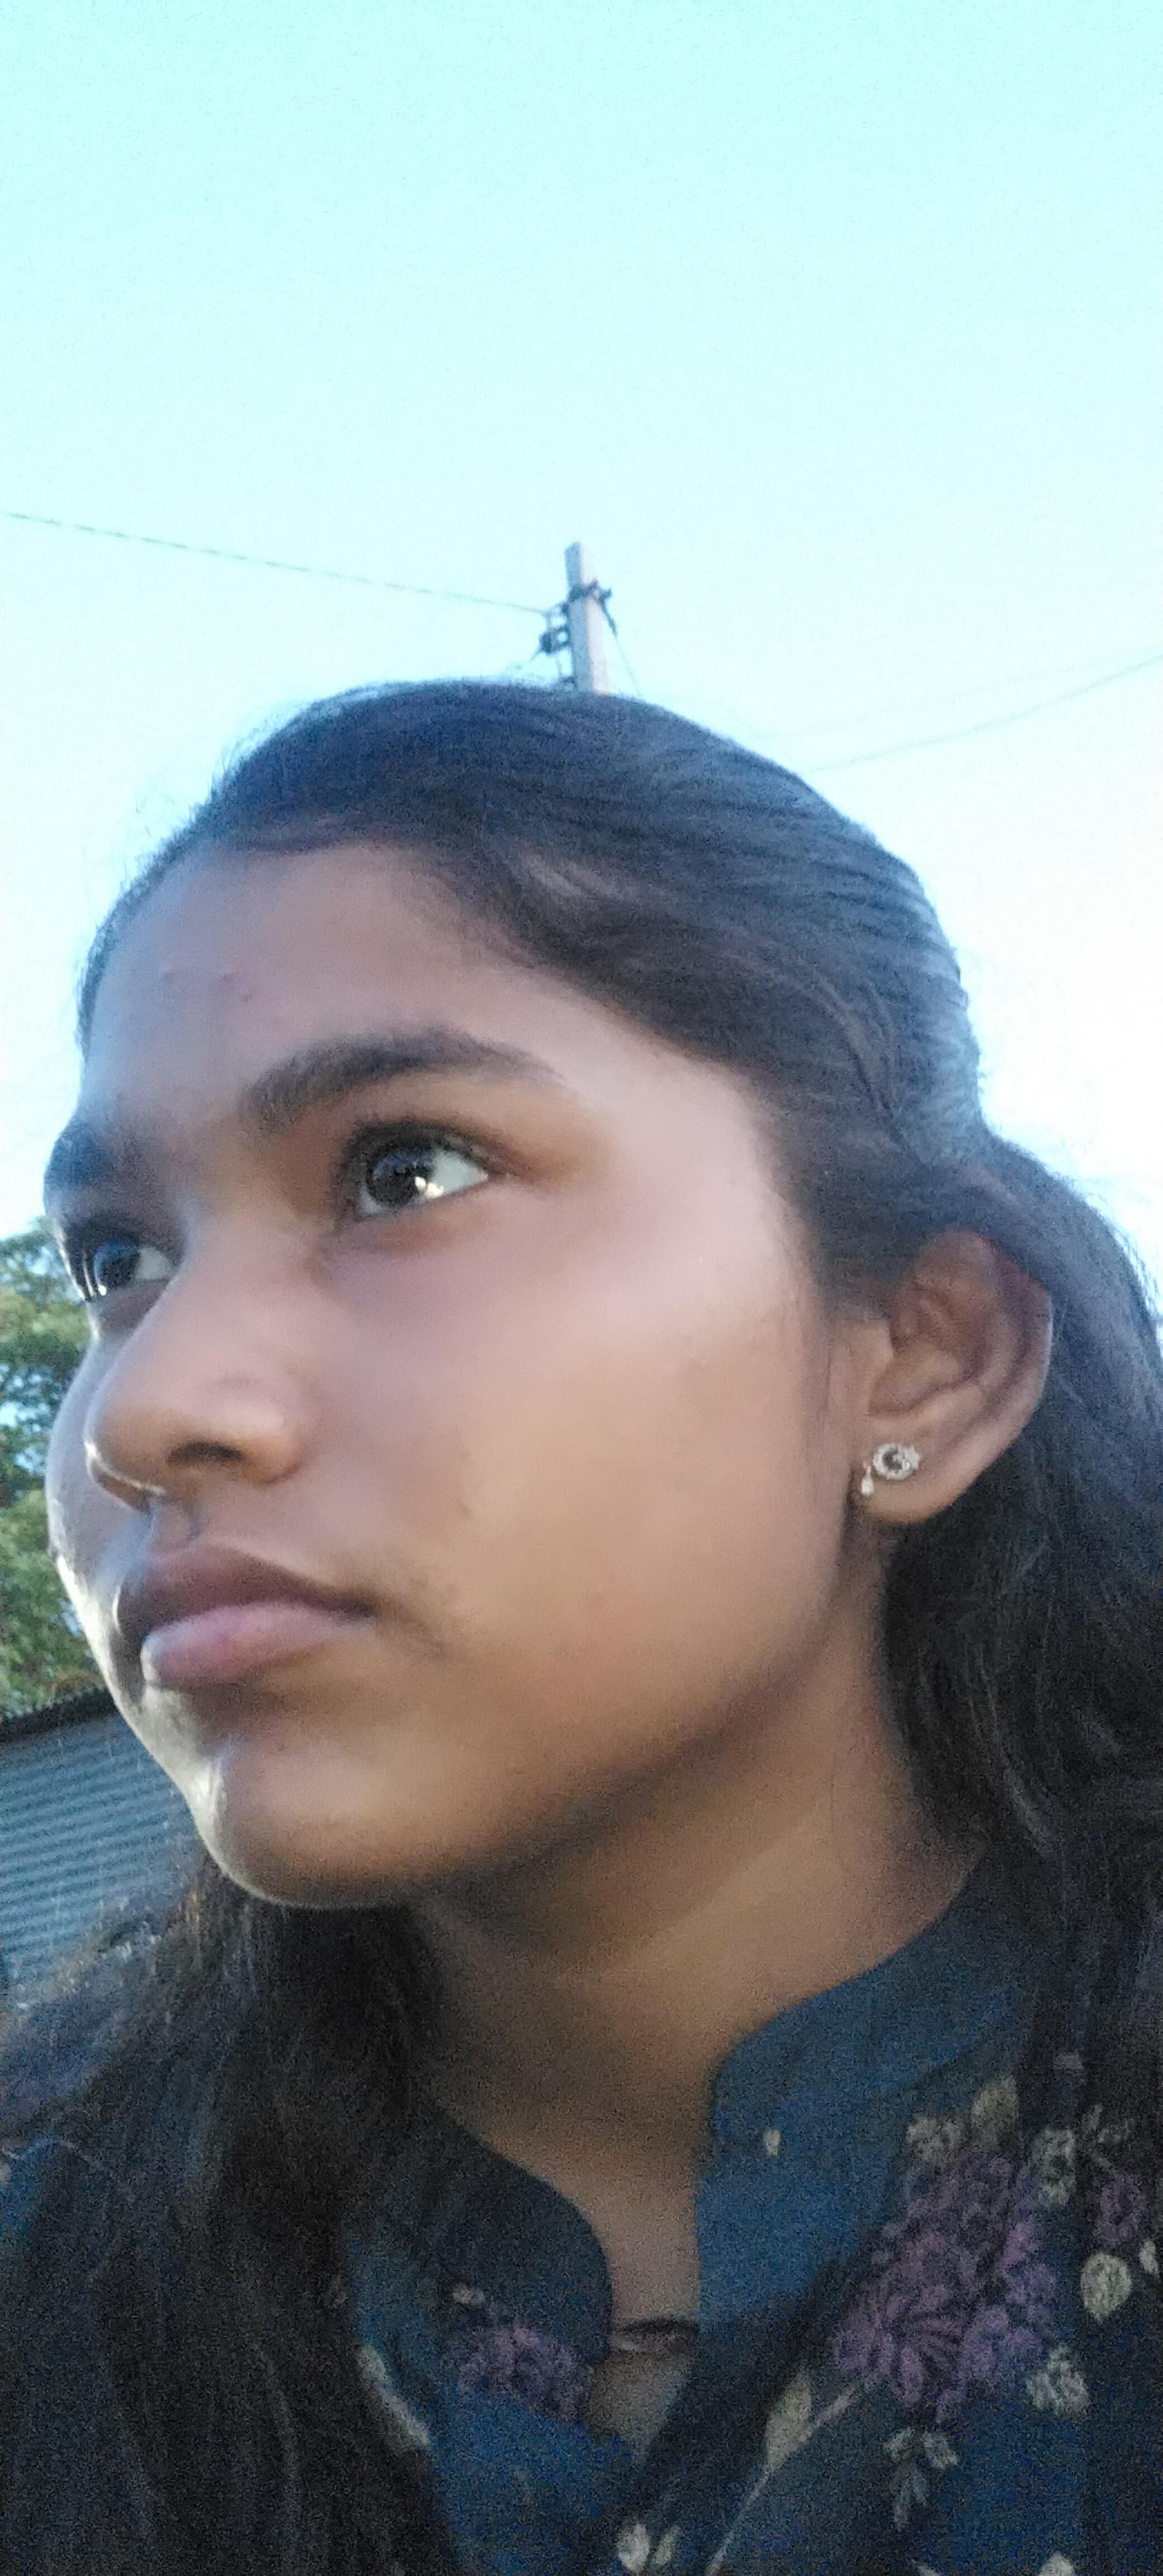Acne: (67, 1543, 87, 1587), (424, 1626, 450, 1658), (317, 1807, 348, 1832), (210, 964, 243, 986), (154, 963, 181, 986), (457, 1493, 476, 1516), (48, 1495, 66, 1513)
